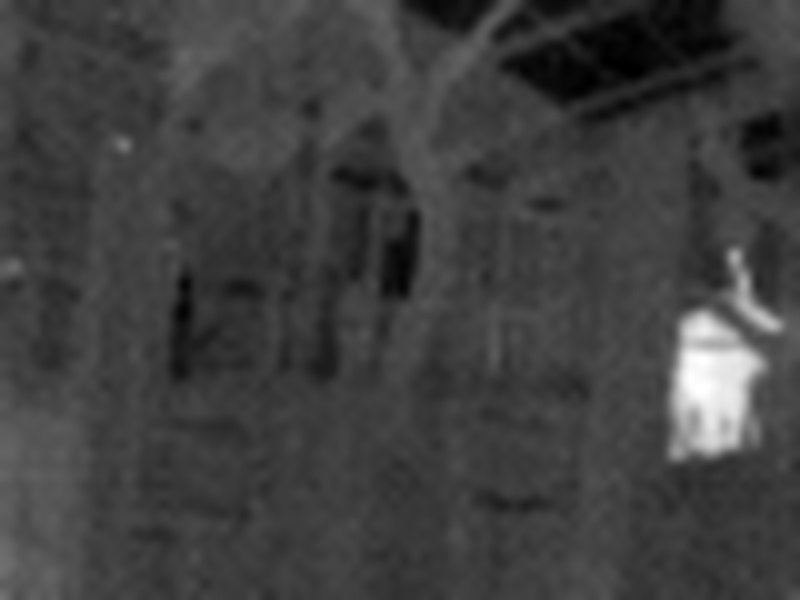elephant: (649, 251, 773, 464)
